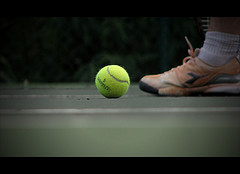tennis ball: (94, 63, 131, 99)
